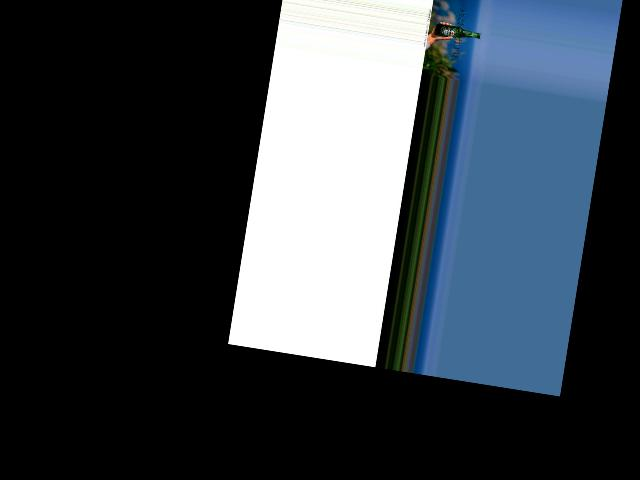beer: (434, 23, 480, 41)
